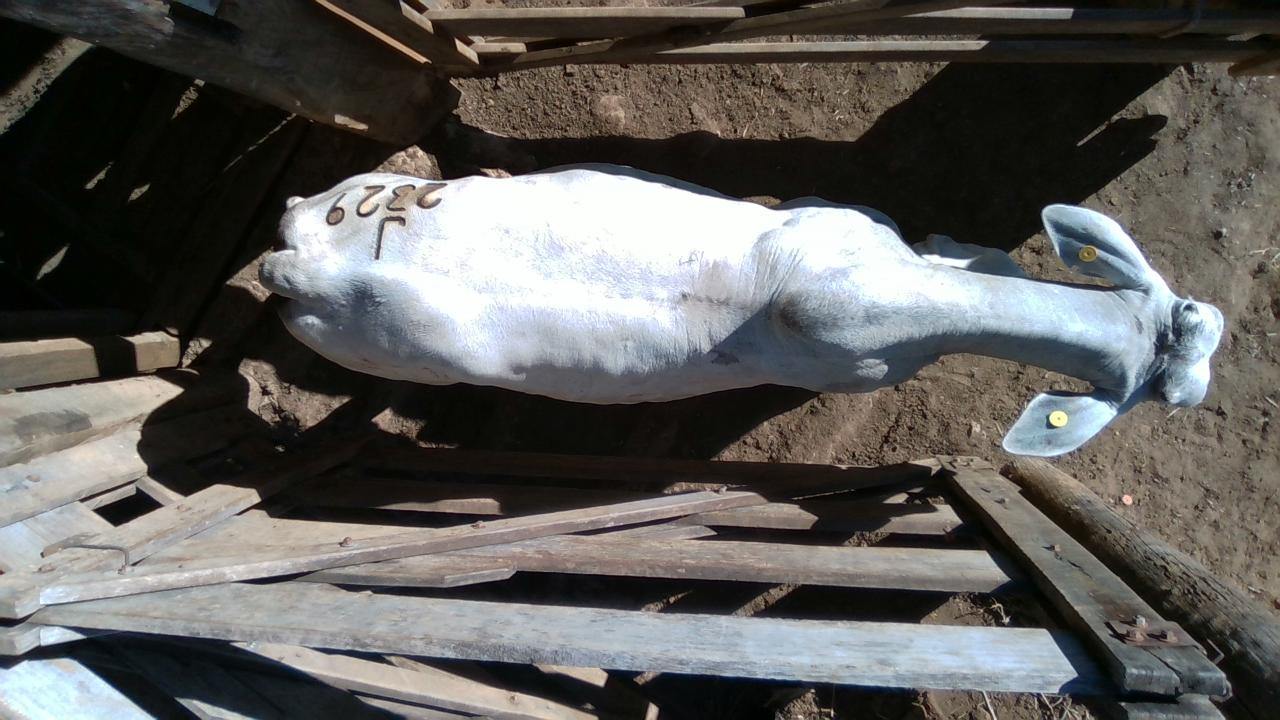cattle: (257, 161, 1224, 458)
